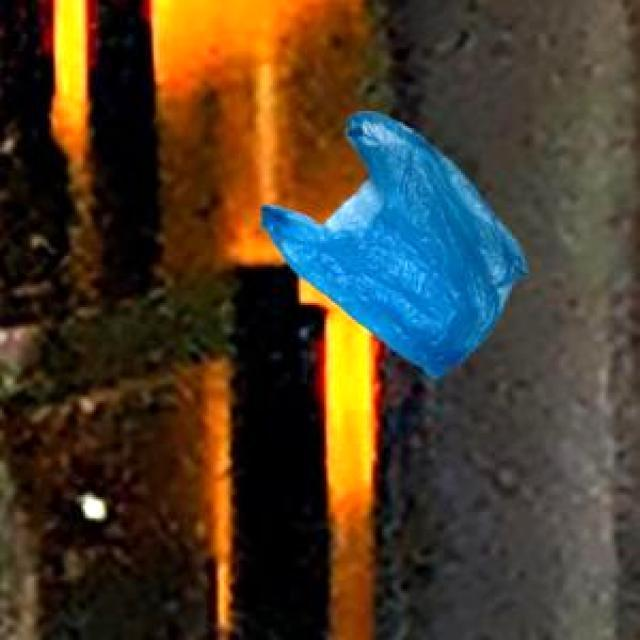Plastic_Bag: (257, 110, 526, 376)
